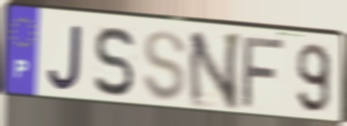9: (295, 42, 333, 116)
F: (239, 36, 289, 111)
J: (46, 23, 85, 93)
N: (186, 31, 244, 112)
S: (140, 28, 188, 104), (92, 25, 137, 100)
